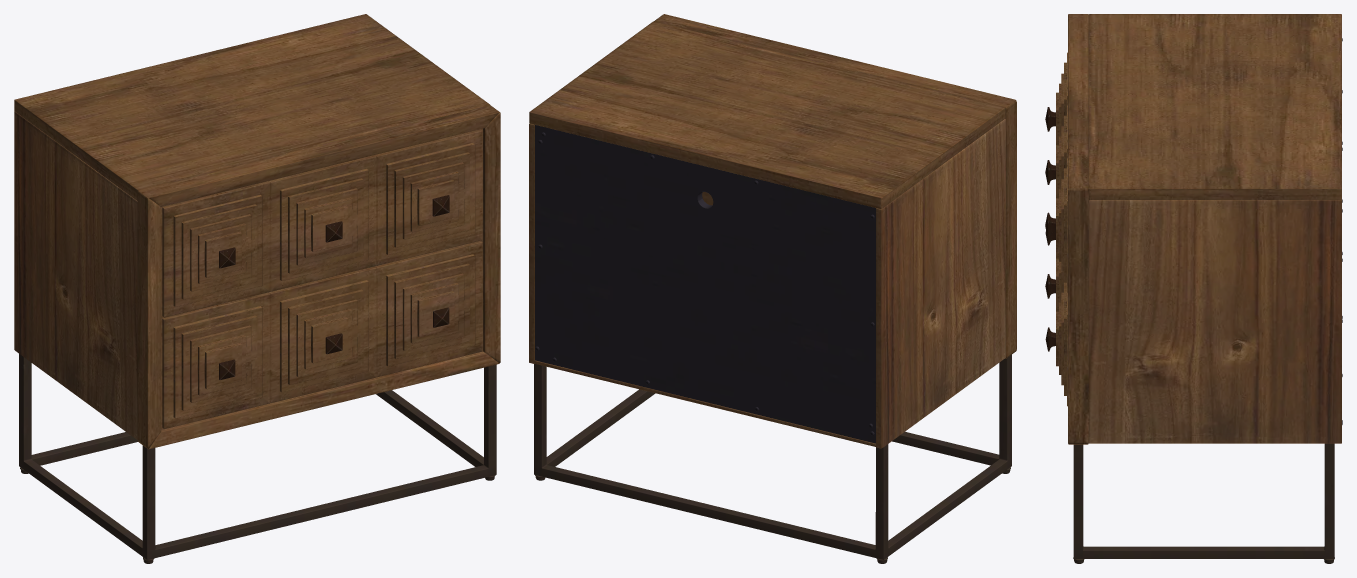
File: abo-B07B4ZPH19.glb
3 views of the same model, side by side, from view 1: azimuth 30°, elevation 25°; view 2: azimuth 150°, elevation 25°; view 3: azimuth 270°, elevation 25° (orthographic).
Bounding box in the file's own units: 0.61 × 0.61 × 0.437.
Materials: 1 (1 with a texture image).
